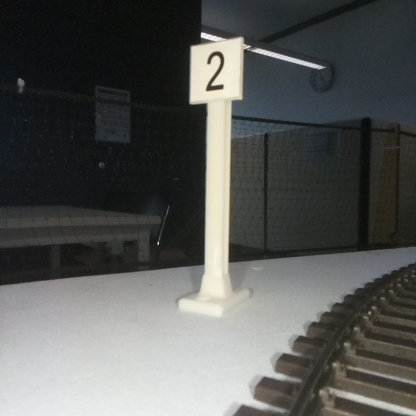white-info-2: (190, 39, 241, 310)
